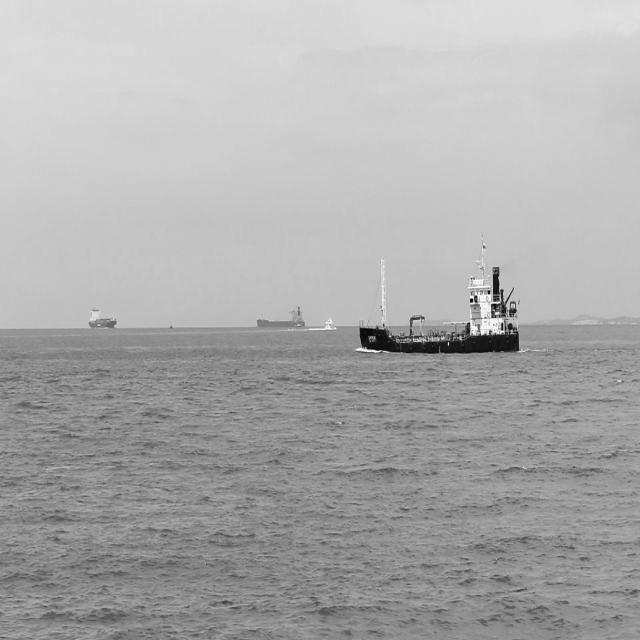ship: (356, 231, 522, 355), (256, 299, 307, 333), (86, 301, 118, 329), (322, 312, 336, 332)
